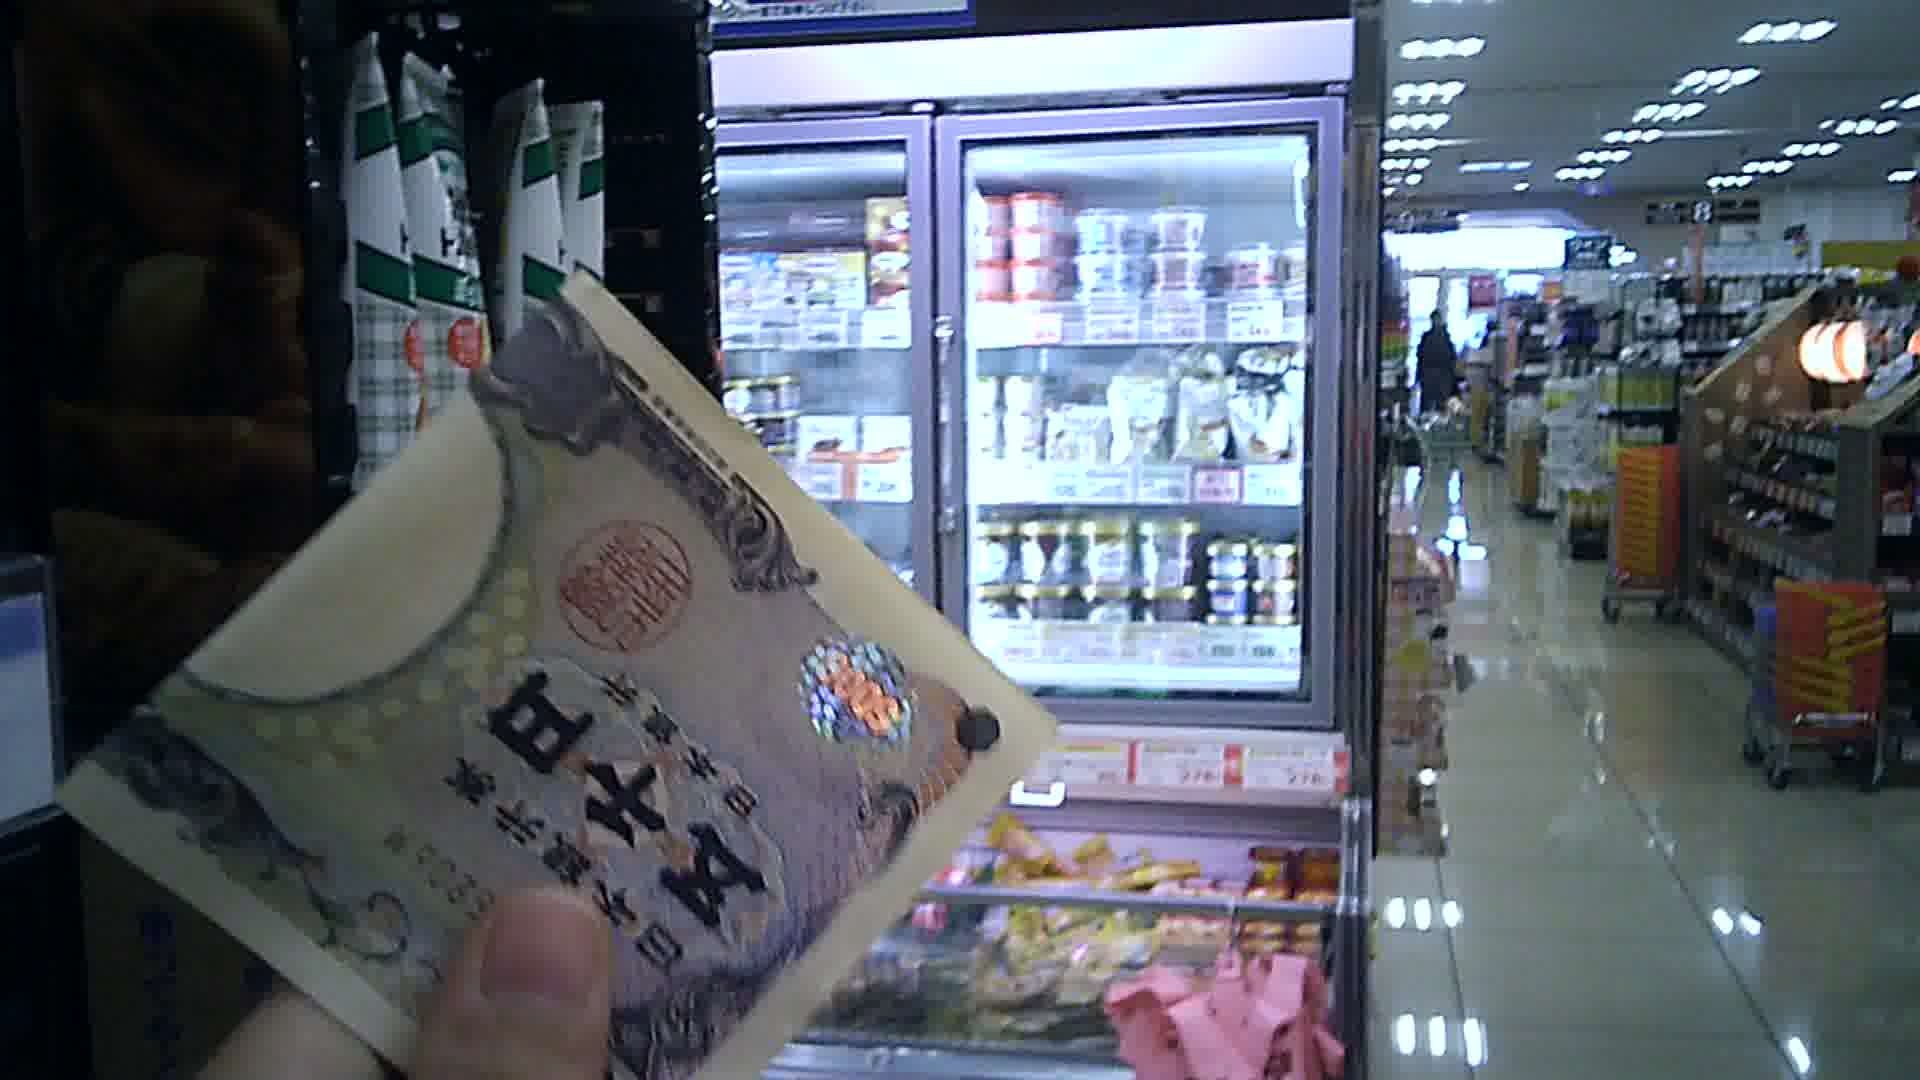5,000 Yen: (73, 255, 1021, 1079)
